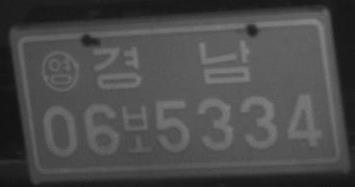0: (42, 104, 78, 158)
3: (239, 94, 279, 151), (196, 95, 234, 153)
4: (286, 93, 323, 148)
5: (153, 98, 191, 154)
6: (83, 101, 121, 158)
경남_D: (91, 38, 251, 91)
보: (122, 103, 152, 154)
영: (41, 49, 79, 93)
